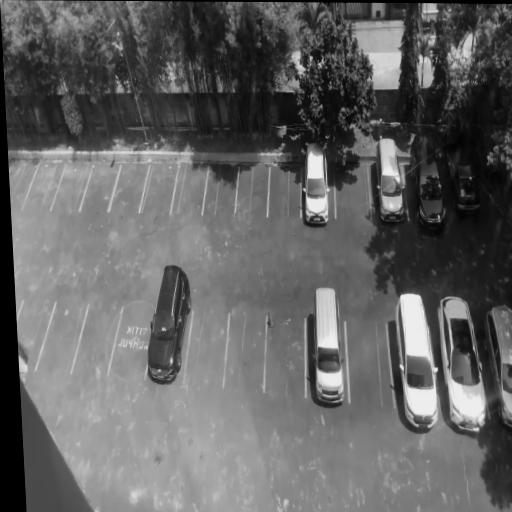Car: (433, 294, 495, 434), (388, 292, 446, 434), (144, 262, 193, 389), (478, 300, 512, 433), (407, 133, 452, 233), (312, 284, 346, 409), (437, 137, 486, 223), (371, 137, 406, 226), (304, 138, 331, 226)
Space Available: (344, 320, 395, 406), (36, 301, 88, 374), (183, 310, 229, 389), (224, 311, 267, 392), (265, 314, 305, 397), (73, 306, 121, 374), (109, 309, 152, 378), (17, 299, 56, 374), (333, 158, 373, 222), (22, 163, 65, 213), (169, 163, 208, 216), (50, 163, 92, 212), (109, 162, 148, 213), (80, 161, 120, 210), (139, 161, 177, 211), (203, 165, 239, 217), (267, 163, 302, 216), (234, 164, 269, 217), (9, 161, 38, 208)
